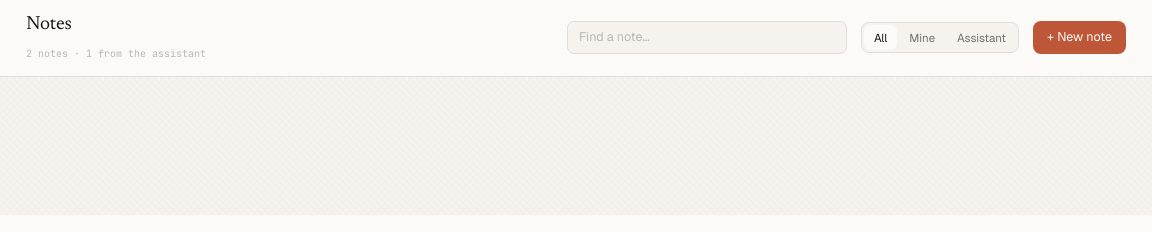
Test case: NoteWall motion › filters cards, reflows the wall, and does not replay first-mount entrance on updates
The width and height of the screenshot is (1152, 232).
Type "alpha" into the field labelled "Find a note" at (707, 37), box [567, 21, 847, 54]
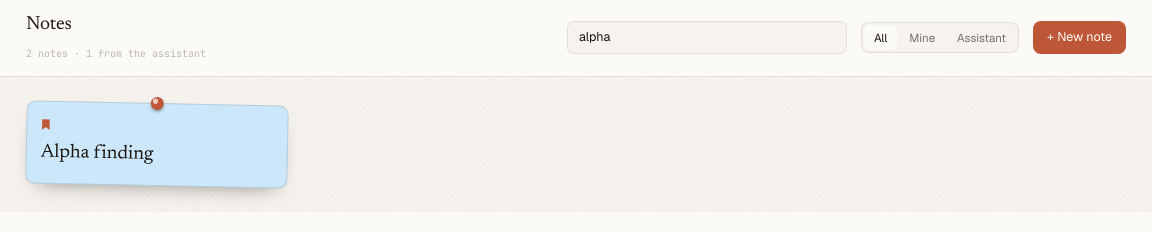
Check: the text "Alpha finding" is shown, box [41, 142, 154, 163]
